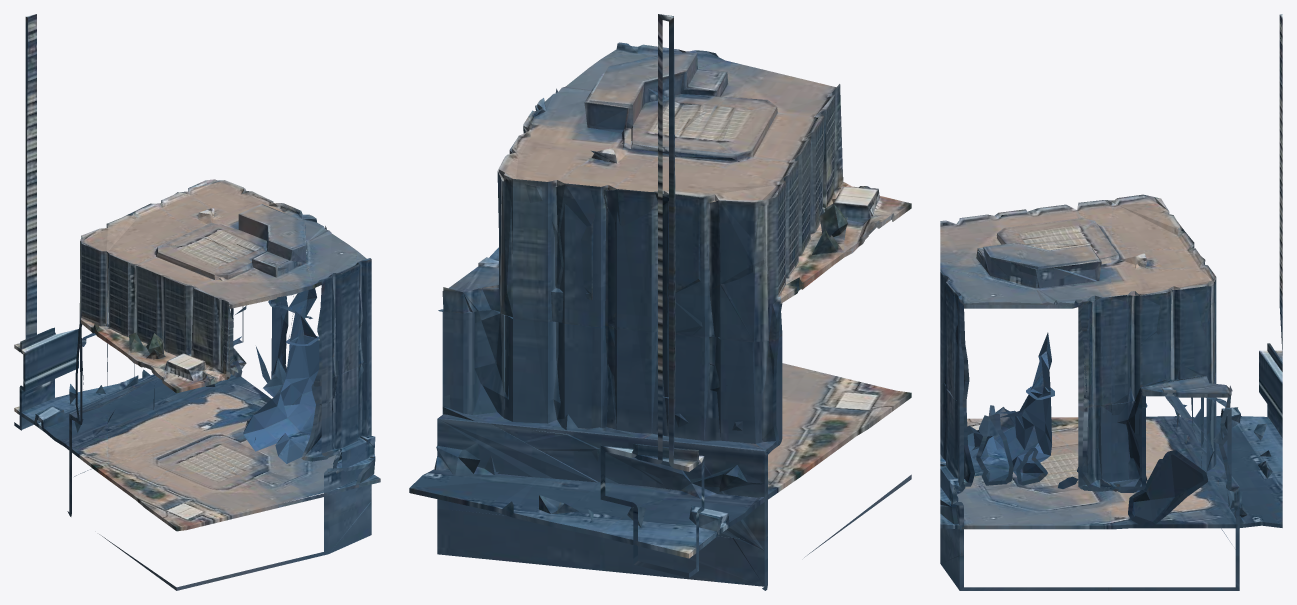
The model's file is chunk_-4_-2.glb.
3 views of the same model, side by side, from view 1: azimuth 30°, elevation 25°; view 2: azimuth 150°, elevation 25°; view 3: azimuth 270°, elevation 25° (orthographic). The views are drawn at different scales.
Parts seen in each view (by area): view 1: hero-chunk; view 2: hero-chunk; view 3: hero-chunk.
Boxes of the visible parts, x1,y1,x2,y2 form: hero-chunk: [14, 14, 380, 590]; hero-chunk: [409, 14, 911, 590]; hero-chunk: [940, 14, 1282, 590].
Bounding box in the file's own units: 56.35 × 118 × 76.32.
Materials: 2 (2 with a texture image).
